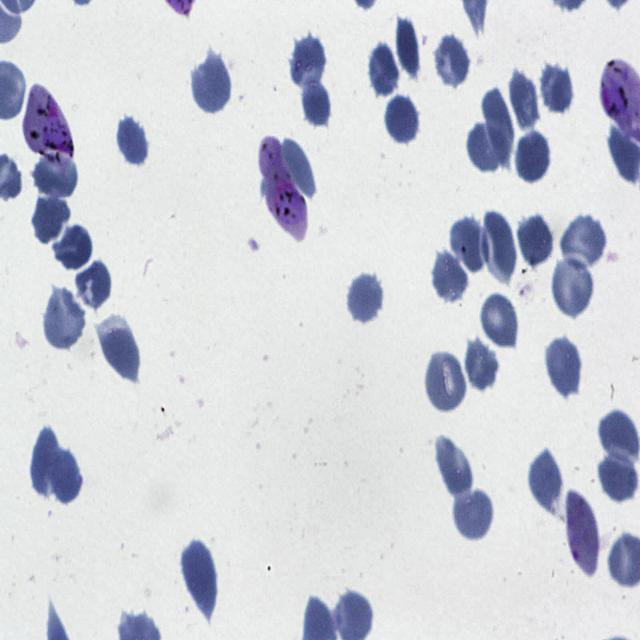difficult: (257, 134, 308, 241), (20, 78, 72, 163)
red blood cell: (563, 488, 601, 578), (478, 207, 518, 287), (179, 538, 219, 617), (550, 252, 596, 319), (424, 348, 468, 415), (42, 286, 86, 353), (96, 321, 141, 386), (190, 50, 233, 116), (482, 86, 515, 169), (528, 446, 566, 518), (562, 213, 608, 271), (452, 487, 495, 546), (434, 436, 474, 499), (448, 217, 491, 275), (544, 334, 583, 397), (280, 138, 319, 200), (32, 149, 80, 199), (479, 292, 520, 350), (596, 450, 640, 504), (32, 193, 75, 248), (288, 33, 328, 92), (430, 30, 471, 87), (30, 424, 62, 496), (73, 257, 114, 313), (599, 410, 640, 466), (464, 336, 502, 395), (514, 129, 553, 186), (45, 446, 84, 503), (428, 252, 469, 304), (518, 213, 555, 269), (346, 271, 384, 325), (53, 224, 94, 274), (384, 92, 421, 147), (466, 123, 507, 171), (300, 72, 334, 129), (540, 62, 574, 117), (510, 66, 540, 128), (368, 43, 400, 100), (115, 114, 148, 166), (395, 13, 420, 80)
